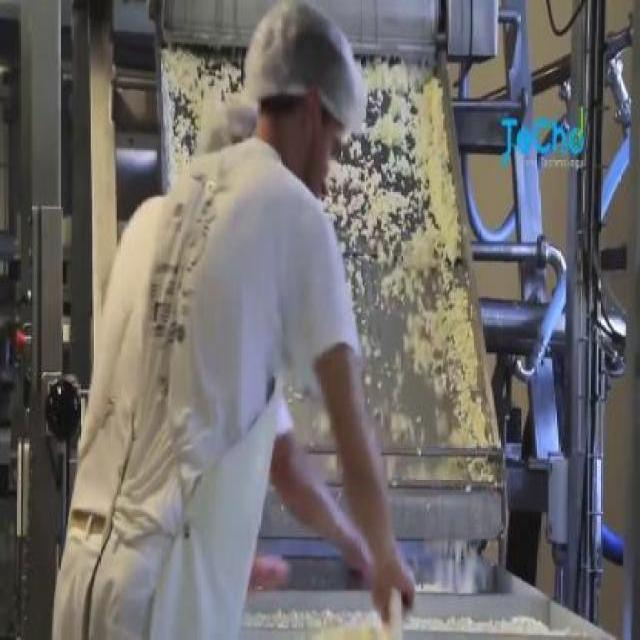bare_hand: (361, 527, 431, 615), (352, 510, 400, 586)
